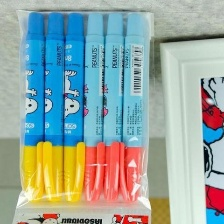correction_fluid: (117, 12, 147, 204), (21, 10, 47, 203), (62, 11, 87, 203), (42, 10, 66, 204), (84, 11, 107, 204), (101, 11, 124, 203)
